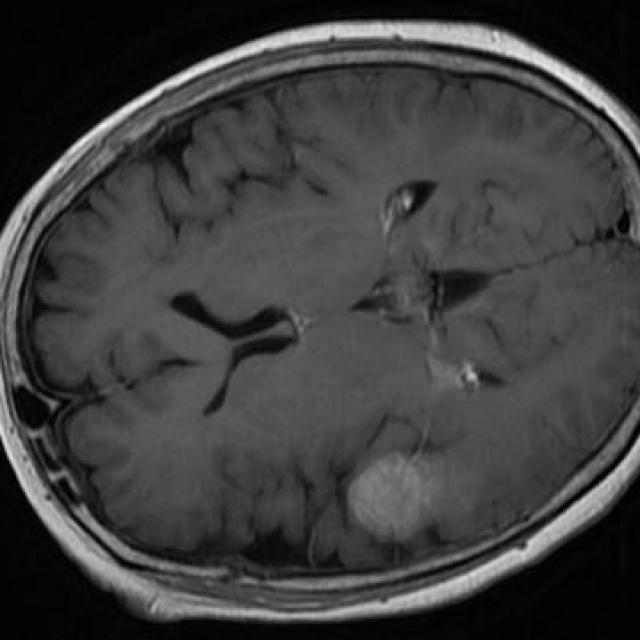meningioma: (348, 453, 437, 537)
